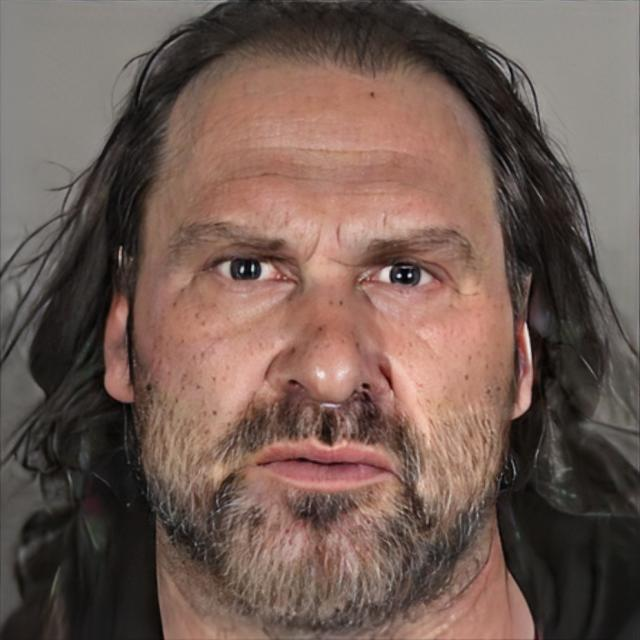anger: (127, 64, 522, 628)
